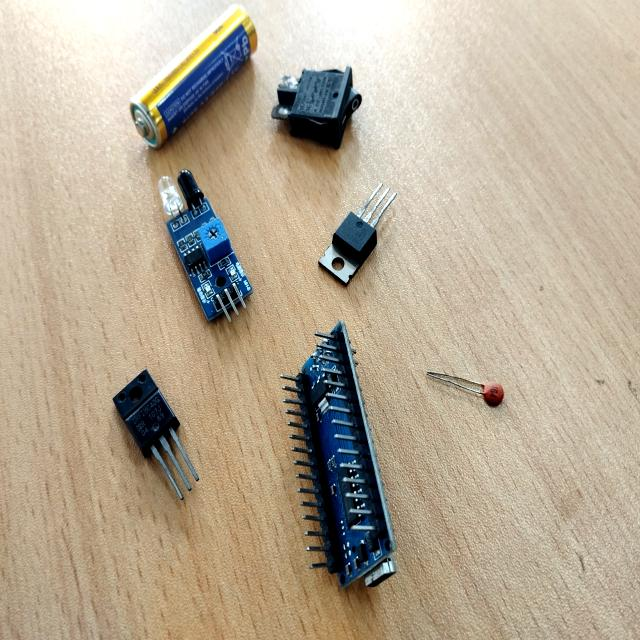capacitor: (456, 378, 504, 408)
